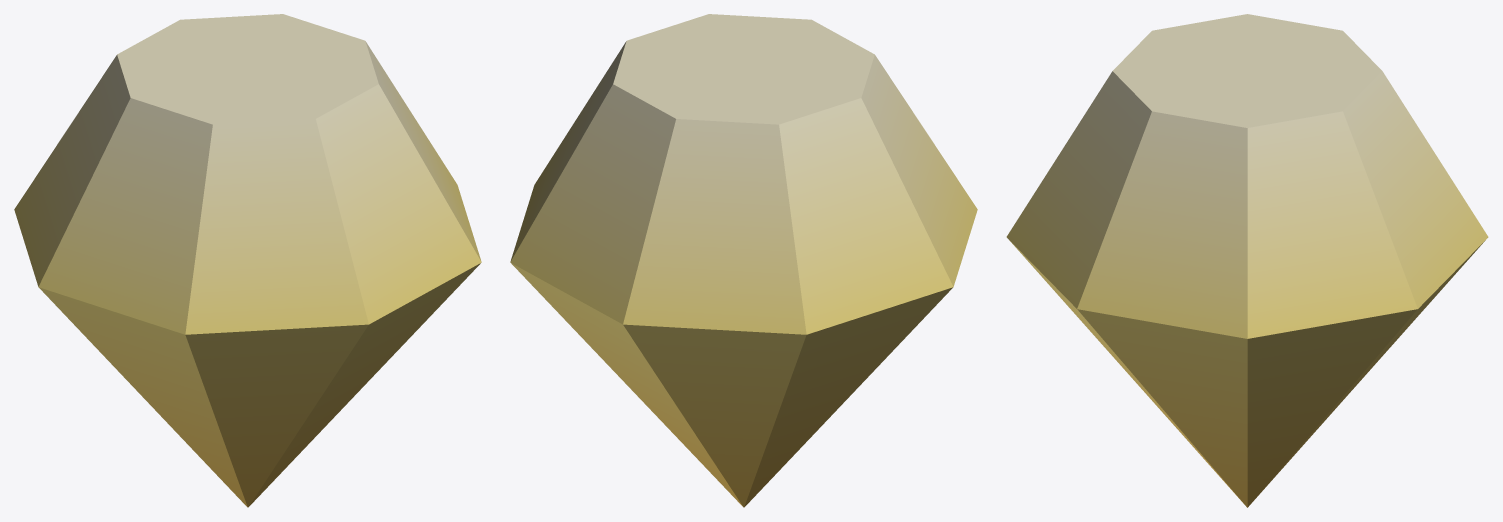
File: gem.glb
The picture shows the model from 3 angles, left to right: view 1: azimuth 30°, elevation 25°; view 2: azimuth 150°, elevation 25°; view 3: azimuth 270°, elevation 25°; orthographic projection.
Visible parts, largest first — view 1: body_glass; view 2: body_glass; view 3: body_glass.
Boxes of the visible parts, bbox=[...] form: body_glass: bbox=[14, 14, 481, 507]; body_glass: bbox=[510, 14, 977, 507]; body_glass: bbox=[1006, 14, 1488, 507].
Bounding box in the file's own units: 0.5 × 0.5 × 0.5.
